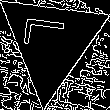L_E: (26, 23, 76, 60)
